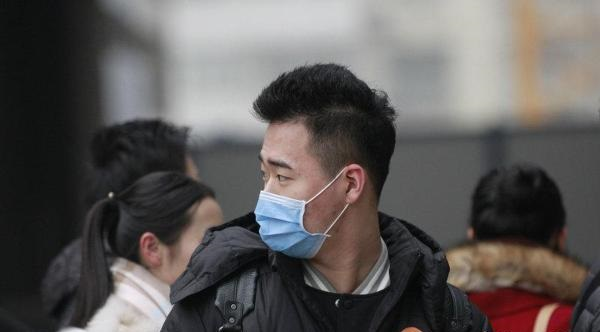face_mask: (253, 124, 348, 258)
